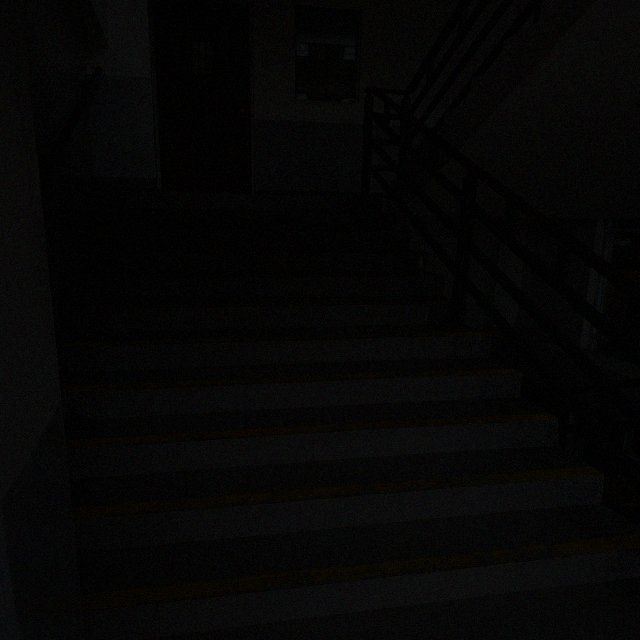stair: (58, 191, 639, 639)
